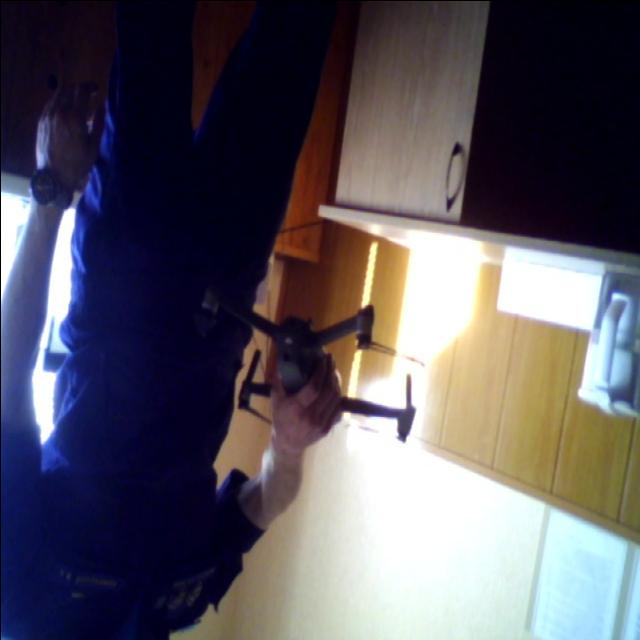drone: (176, 269, 438, 468)
